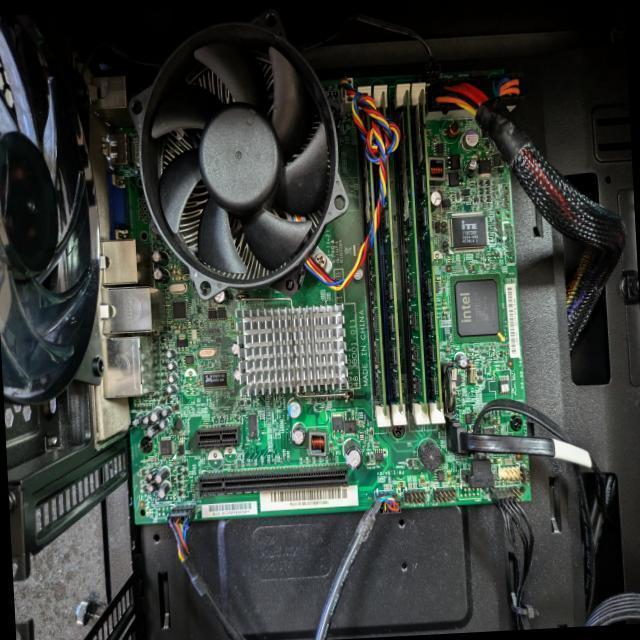CPU_Fan: (122, 3, 354, 304)
Mainboard: (106, 69, 532, 526)
RAM: (397, 90, 428, 413), (414, 88, 444, 410), (377, 92, 404, 415), (360, 109, 387, 417)
